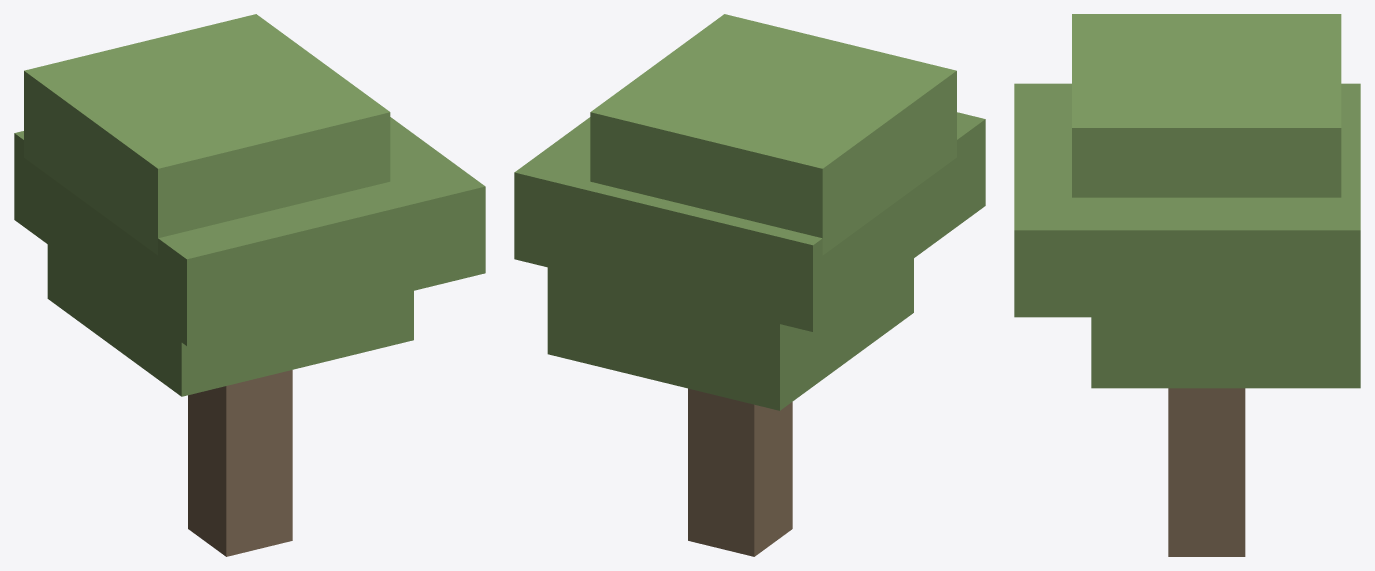
Rendered from castano_07.glb.
3 views of the same model, side by side, from view 1: azimuth 30°, elevation 25°; view 2: azimuth 150°, elevation 25°; view 3: azimuth 270°, elevation 25° (orthographic).
Parts seen in each view (by area): view 1: castano_07; view 2: castano_07; view 3: castano_07.
Part boxes in pixels (x1,y1,x2,y2): castano_07: (14, 14, 485, 556); castano_07: (514, 14, 985, 556); castano_07: (1014, 14, 1360, 556).
Bounding box in the file's own units: 1.8 × 2.6 × 1.8.
